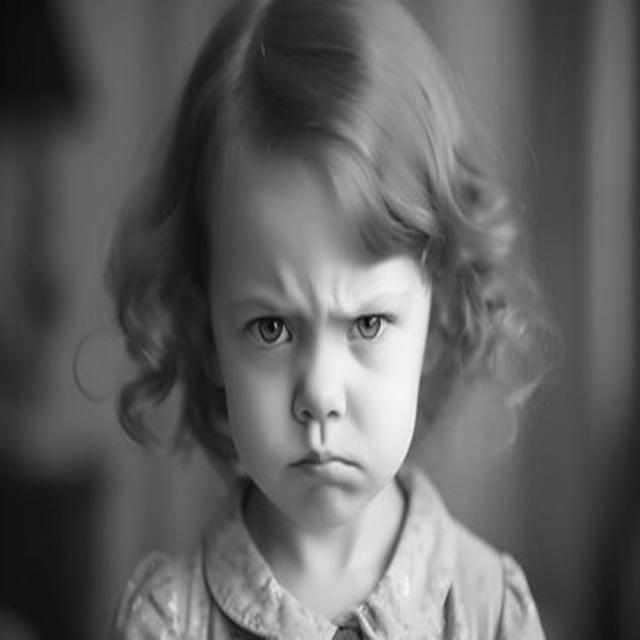Angry: (210, 158, 432, 528)
